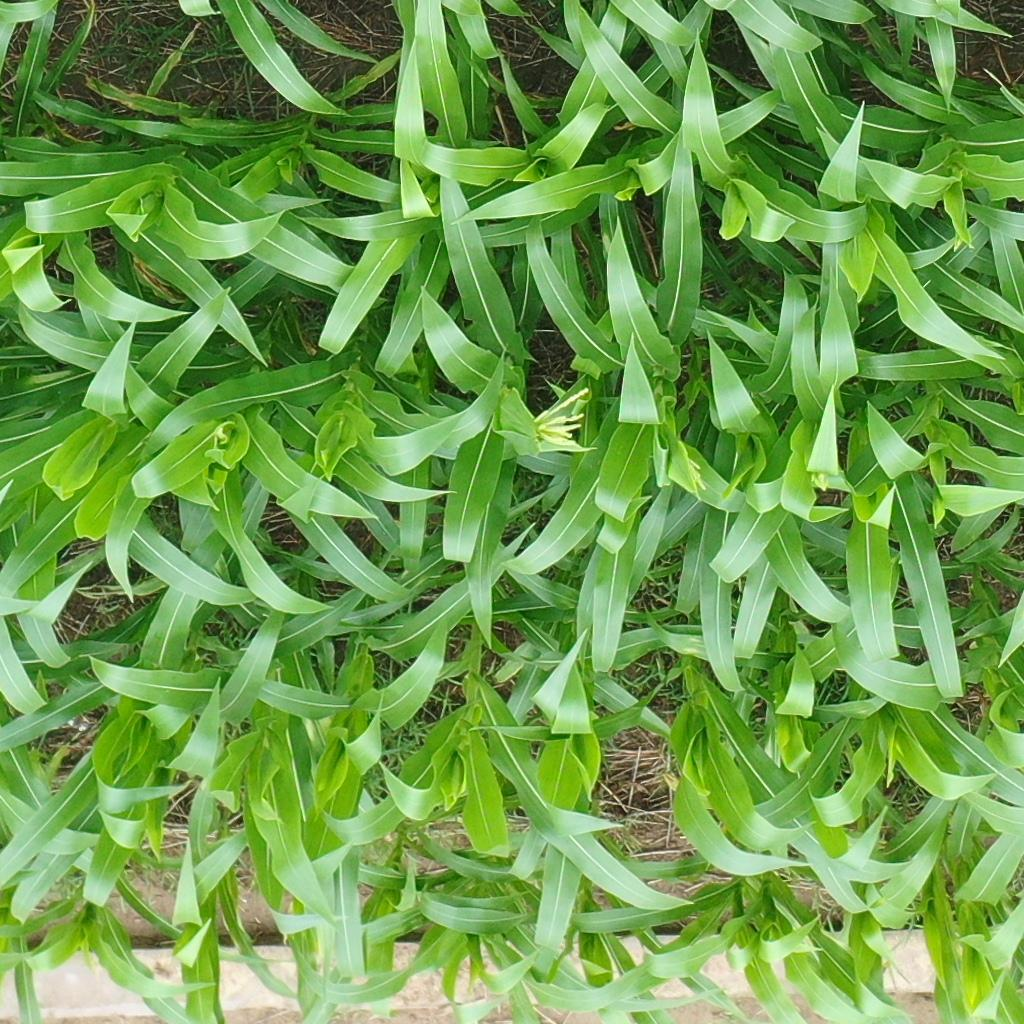Tassel: (523, 374, 597, 459), (676, 451, 712, 507), (807, 464, 834, 505)
